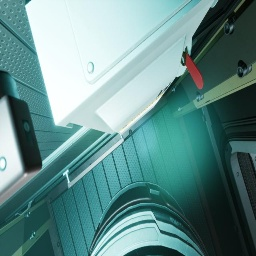SafetySwitchPanel ,: (25, 0, 218, 135)
